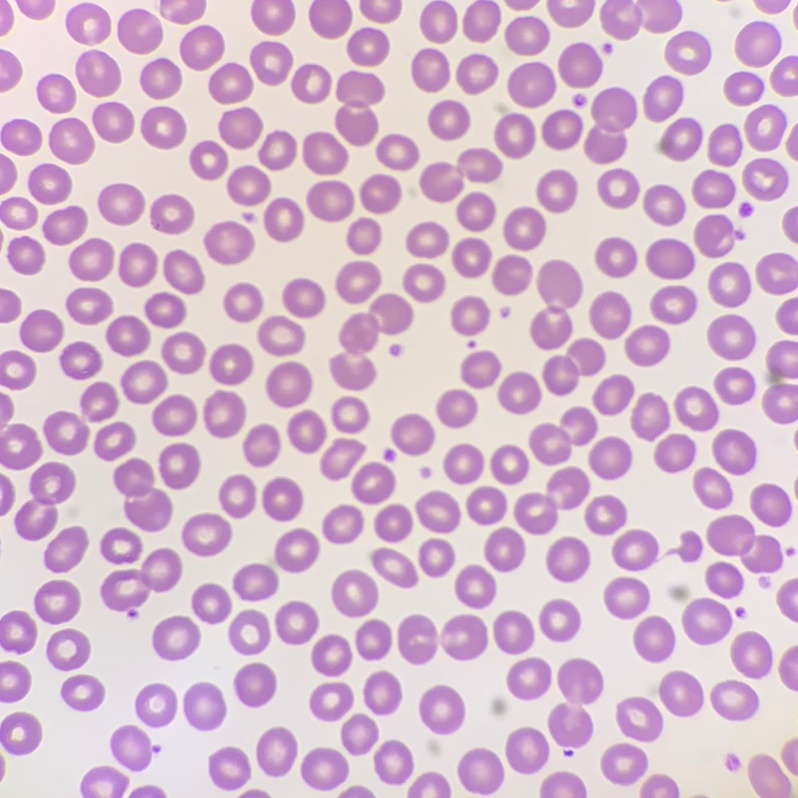RBC: (330, 293, 412, 389), (233, 529, 319, 600), (101, 548, 181, 612), (514, 467, 589, 534), (548, 658, 601, 746), (15, 462, 74, 540), (531, 260, 582, 349), (420, 148, 501, 201), (706, 515, 781, 572), (114, 458, 171, 531), (584, 88, 635, 163), (529, 407, 596, 464), (335, 71, 383, 145), (543, 338, 605, 394), (600, 0, 679, 39), (762, 341, 797, 423), (682, 598, 730, 643), (508, 62, 555, 107), (420, 685, 464, 733), (332, 570, 377, 616), (707, 315, 754, 359), (748, 755, 797, 797), (458, 748, 503, 793), (76, 50, 120, 96), (205, 221, 253, 263), (182, 514, 231, 555), (49, 118, 93, 163), (266, 362, 311, 406), (152, 616, 199, 658), (118, 9, 162, 53), (735, 22, 779, 66), (180, 26, 224, 70), (443, 615, 487, 659), (658, 671, 702, 715), (617, 697, 661, 741), (35, 580, 80, 623), (506, 727, 548, 773), (301, 748, 348, 789), (646, 239, 694, 279), (257, 727, 297, 775), (546, 537, 589, 581), (665, 32, 710, 74), (656, 118, 701, 160), (121, 361, 166, 403), (601, 743, 646, 785), (204, 391, 245, 437), (398, 615, 437, 663), (141, 106, 185, 148), (303, 132, 347, 174), (69, 238, 113, 280), (45, 527, 87, 571), (713, 429, 754, 474), (307, 181, 353, 221), (98, 184, 144, 224), (590, 292, 630, 338), (711, 680, 757, 720), (370, 548, 417, 587), (559, 44, 601, 87), (675, 387, 717, 430), (45, 412, 88, 454), (275, 601, 318, 643), (336, 261, 380, 302), (0, 424, 41, 468), (612, 529, 656, 570), (229, 610, 270, 654), (185, 683, 226, 727), (634, 616, 674, 661), (731, 632, 771, 677), (258, 316, 304, 355), (250, 42, 292, 84), (503, 207, 545, 249), (352, 462, 394, 504), (743, 159, 786, 200), (694, 214, 735, 257), (163, 250, 204, 293), (708, 263, 749, 306), (507, 657, 550, 698), (66, 4, 110, 44), (625, 325, 669, 365), (152, 395, 196, 435), (484, 527, 524, 571), (604, 577, 648, 617), (745, 105, 784, 150), (495, 113, 534, 158), (160, 443, 199, 488), (162, 332, 204, 373), (498, 372, 540, 413), (589, 437, 631, 478), (417, 491, 459, 532), (209, 63, 252, 103), (28, 164, 71, 204), (106, 315, 149, 355), (262, 477, 302, 520), (455, 565, 495, 608), (47, 629, 90, 669), (756, 253, 797, 294), (21, 310, 62, 351), (209, 747, 250, 788), (219, 108, 261, 148), (210, 344, 252, 384), (392, 414, 434, 454), (321, 439, 363, 479), (235, 663, 275, 705), (227, 166, 270, 205), (264, 198, 303, 241), (111, 725, 150, 768), (43, 206, 87, 244), (374, 740, 412, 784), (631, 394, 668, 439), (140, 58, 181, 98), (92, 102, 133, 142), (643, 185, 684, 225), (539, 599, 579, 640), (0, 712, 41, 752), (537, 170, 576, 212), (750, 484, 789, 526), (494, 611, 533, 653), (505, 17, 548, 55), (310, 682, 353, 720), (644, 77, 681, 121), (651, 286, 695, 323), (67, 288, 112, 324), (311, 635, 351, 675), (136, 684, 176, 724), (283, 278, 324, 317), (309, 0, 351, 38), (151, 195, 193, 233), (287, 410, 325, 452), (119, 243, 156, 286), (457, 54, 497, 93), (429, 100, 469, 139), (598, 169, 638, 208), (360, 174, 400, 213), (595, 238, 635, 277), (593, 375, 633, 414), (443, 444, 483, 483), (585, 495, 625, 534), (191, 583, 231, 622), (403, 264, 444, 302), (94, 422, 135, 460), (412, 49, 449, 91), (364, 671, 401, 713), (542, 110, 581, 149), (492, 255, 531, 294), (463, 0, 500, 41), (347, 28, 388, 65), (693, 170, 734, 207), (243, 425, 280, 466), (322, 505, 363, 542), (219, 475, 255, 517), (100, 527, 142, 563), (61, 674, 104, 709), (452, 238, 490, 277), (437, 389, 476, 427), (490, 445, 528, 484), (61, 342, 101, 379), (654, 434, 694, 471), (694, 468, 731, 508), (420, 1, 456, 42), (0, 611, 36, 652), (376, 134, 418, 169), (406, 222, 448, 257), (251, 0, 294, 34), (457, 193, 495, 231), (224, 283, 262, 321), (451, 297, 489, 335), (461, 351, 500, 388), (714, 367, 753, 404), (81, 382, 118, 421), (467, 486, 506, 523), (1, 119, 41, 155), (341, 714, 377, 754), (292, 65, 330, 102), (38, 74, 75, 112), (259, 131, 296, 169), (190, 141, 227, 179), (145, 292, 185, 327), (356, 619, 391, 659), (81, 766, 126, 797), (8, 237, 44, 274), (375, 504, 411, 541), (0, 351, 35, 389), (708, 124, 740, 165), (331, 397, 368, 432), (419, 539, 454, 576), (705, 562, 742, 597), (724, 72, 761, 105), (0, 661, 30, 701), (548, 0, 594, 26), (540, 771, 586, 797), (347, 218, 380, 254), (0, 197, 36, 229), (407, 772, 450, 797), (160, 0, 205, 23), (771, 58, 797, 95), (640, 774, 679, 797), (360, 0, 400, 22), (0, 50, 21, 91), (777, 579, 797, 621), (779, 646, 797, 689), (777, 298, 797, 334), (17, 0, 54, 19), (0, 289, 20, 322), (679, 532, 701, 561), (0, 155, 16, 192), (0, 475, 14, 514), (782, 739, 797, 774), (783, 207, 797, 241), (0, 0, 13, 34), (755, 0, 788, 13), (0, 394, 13, 427), (130, 785, 164, 797), (341, 786, 373, 797), (787, 127, 797, 158), (670, 585, 689, 601), (507, 0, 535, 9), (491, 699, 506, 715), (242, 789, 267, 797), (428, 742, 437, 751), (0, 760, 4, 774)
